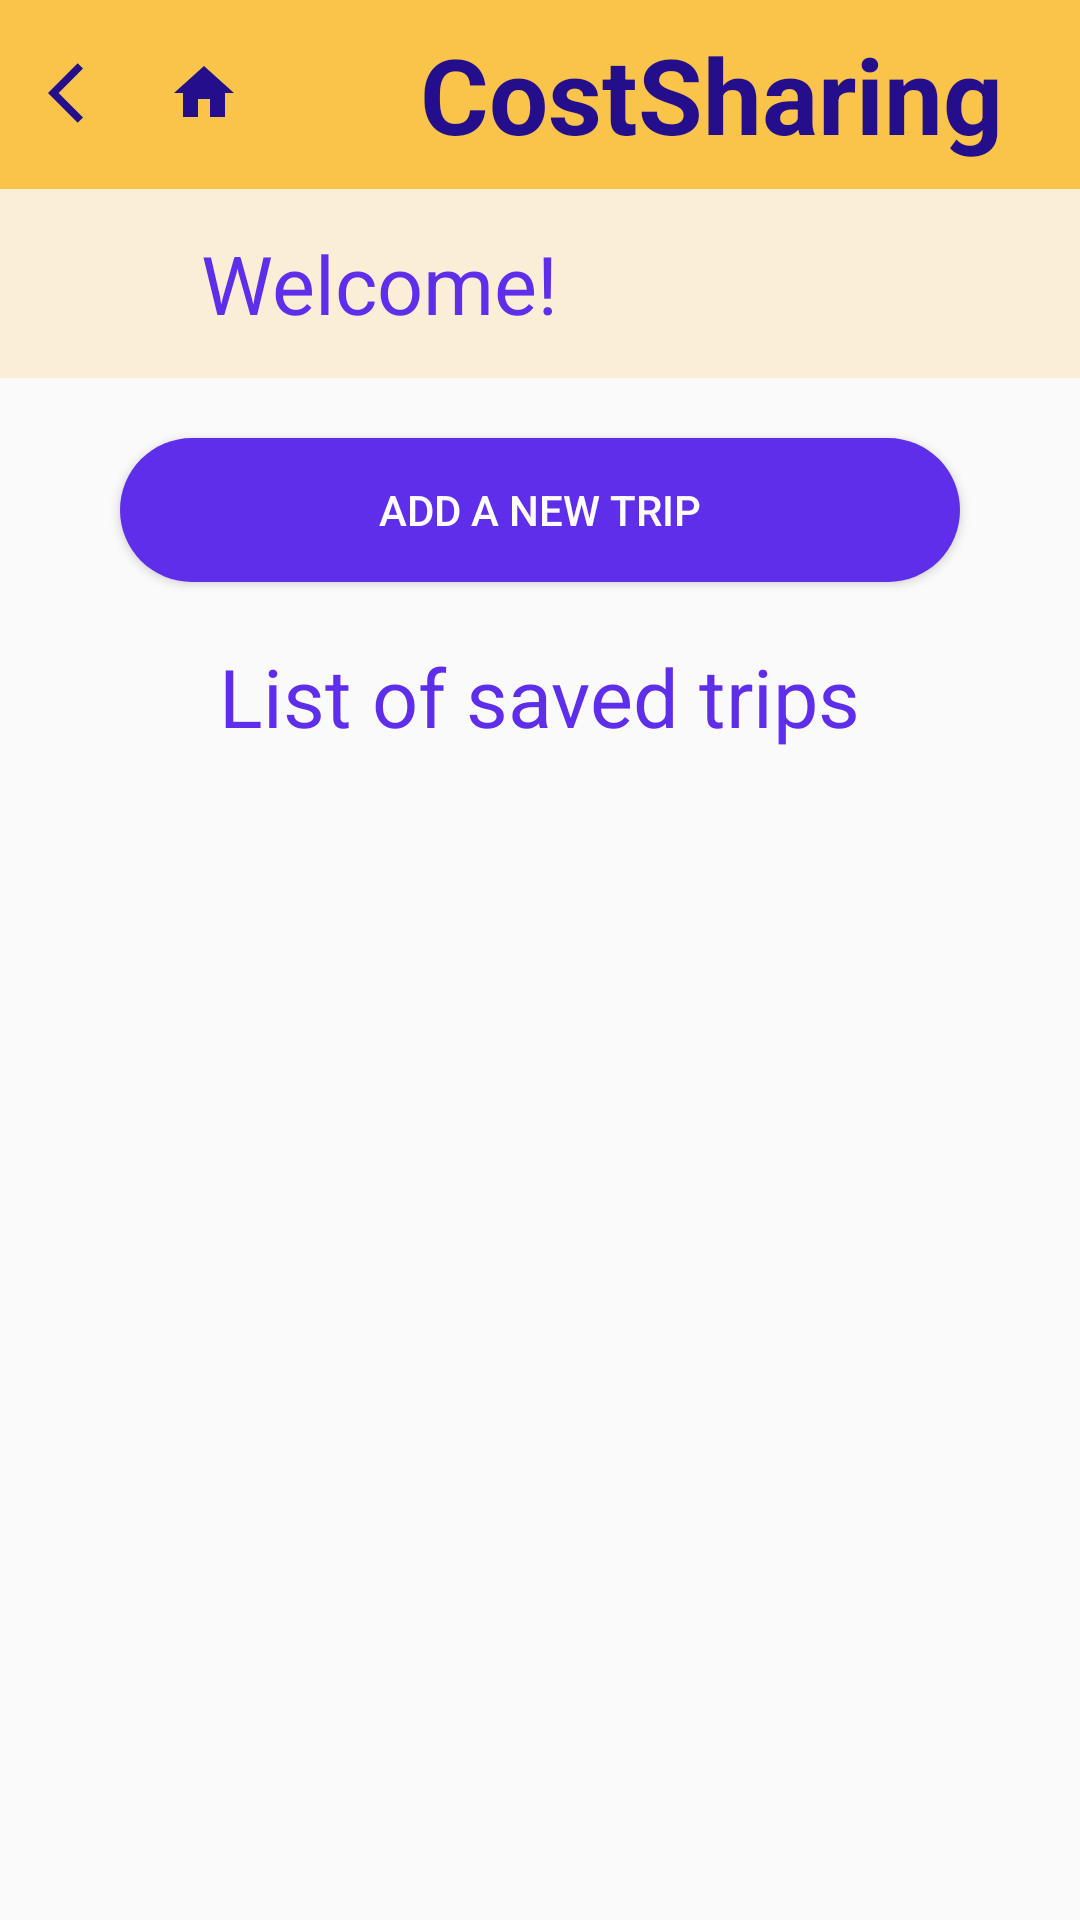

Point at icon controls on the screen. Image size 1080 x 1920, points as (x=x, y=y).
back: (x=65, y=93)
home: (x=204, y=91)
